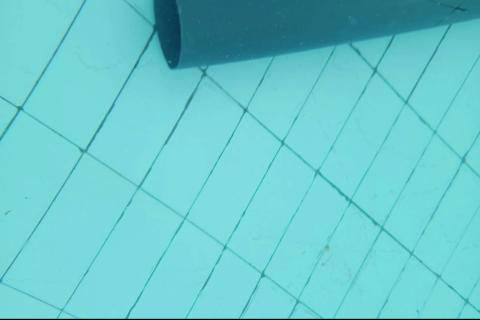keretakan: (432, 0, 469, 21)
